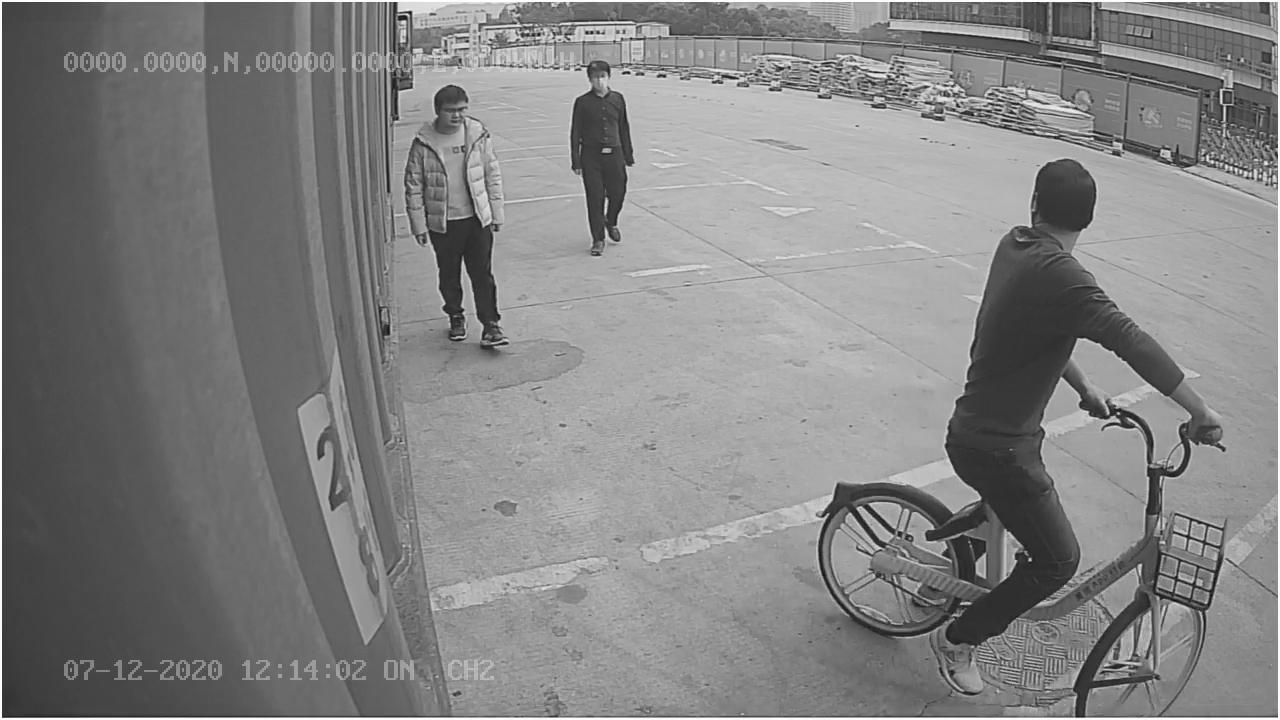person: (405, 84, 513, 347), (549, 54, 651, 259)
